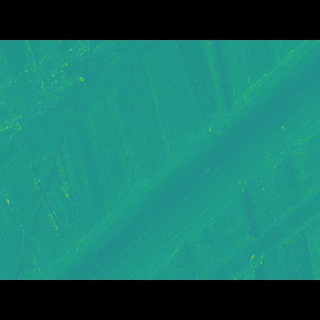Loch: (44, 68, 316, 250), (0, 69, 186, 183), (16, 71, 125, 124)
